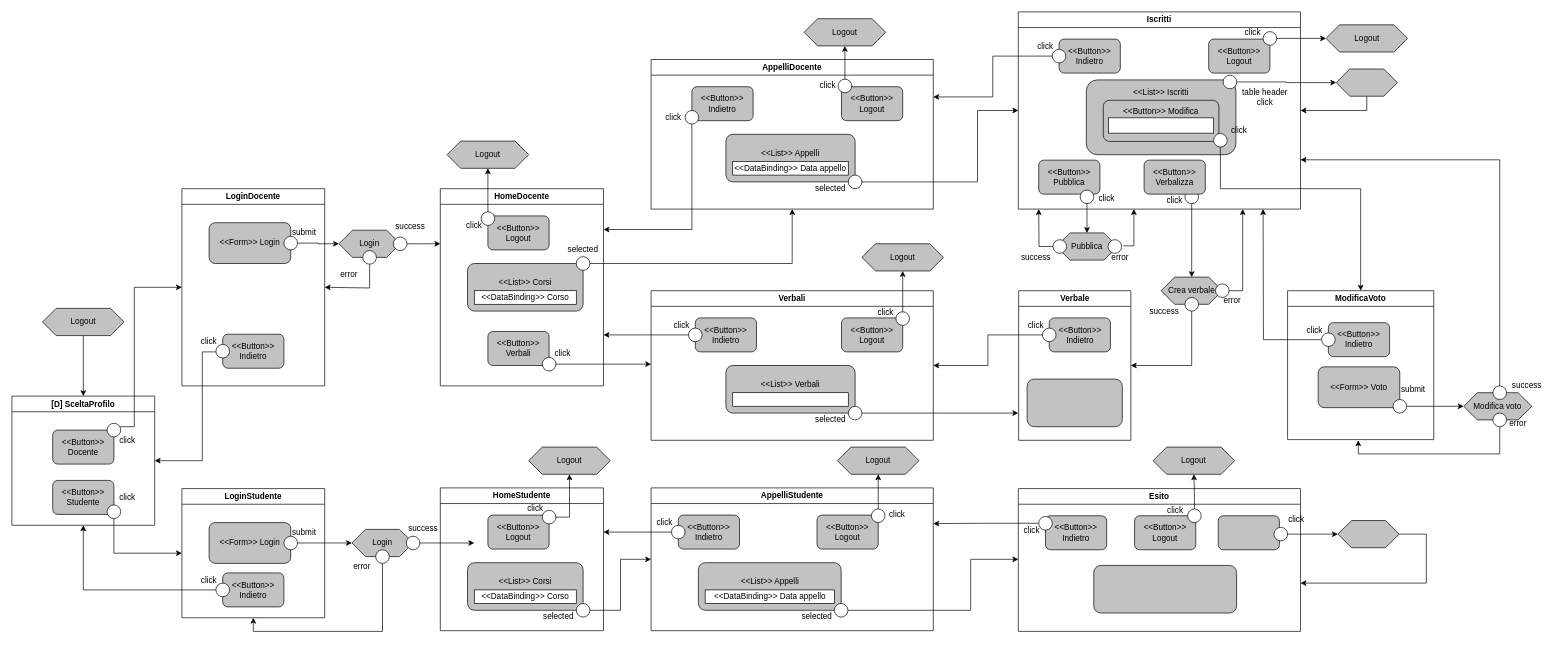
Some shapes in this 1559 by 649 pixel diagram are drawn without their labels. The centre of each missing label's shape, as x and y in pixels:
"<<Button>> Rifiuta" belongs at (x=1248, y=532).
"<<DataBinding>> Cod verbale" belongs at (x=790, y=399).
"<<DataBinding>> Studente" belongs at (x=1161, y=125).
"<<Form>> Dati esame" belongs at (x=1165, y=589).
"<<Form>> Verbale" belongs at (x=1074, y=402).
"Rifuta voto" belongs at (x=1368, y=534).
"Riordina" belongs at (x=1366, y=82).
